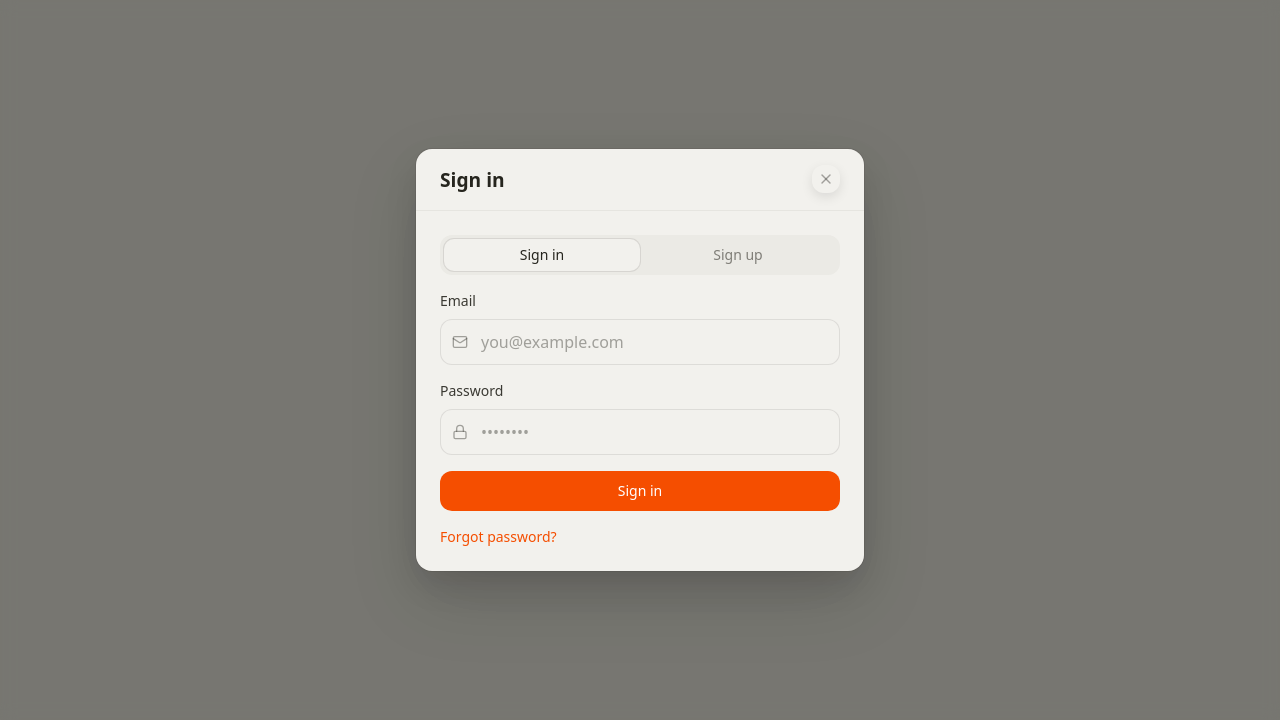
Test: AuthModal › switches to forgot-password view
The width and height of the screenshot is (1280, 720).
Click the button "Forgot password?" at (498, 537), box [440,527,557,547]
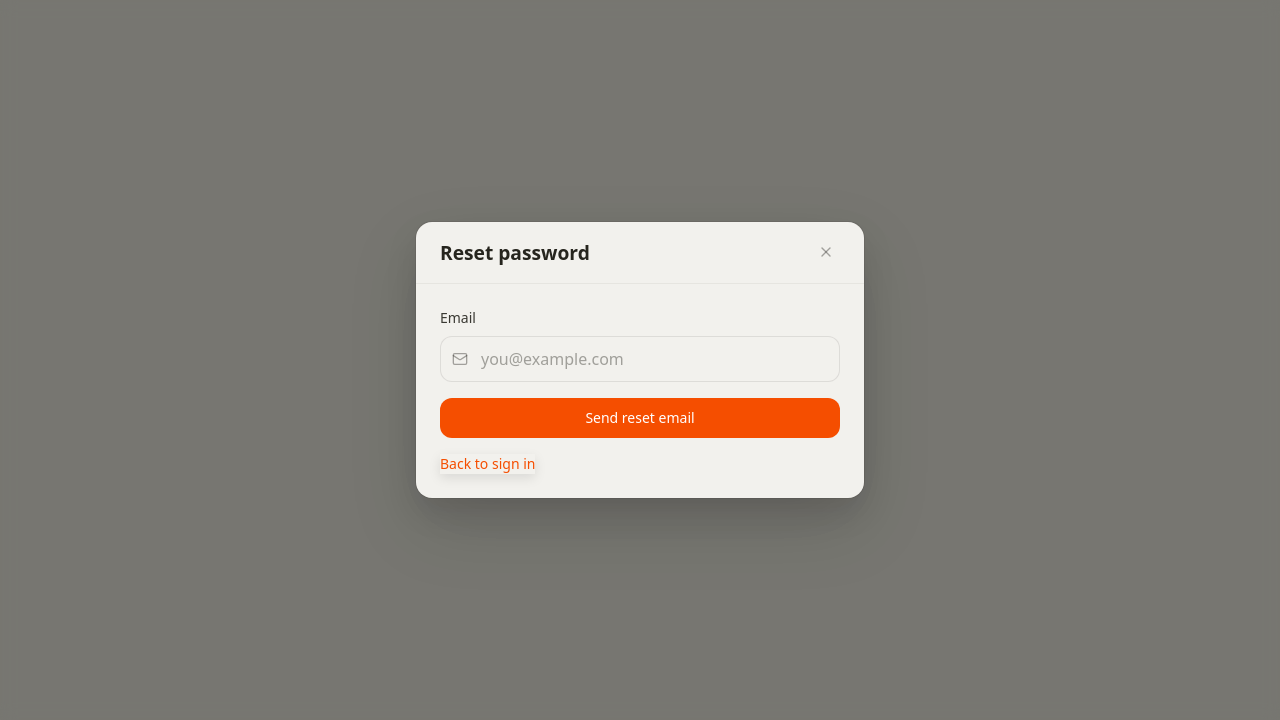
Expected: the button with test id "auth-submit" reads "Send reset email", [440,398,840,438]
